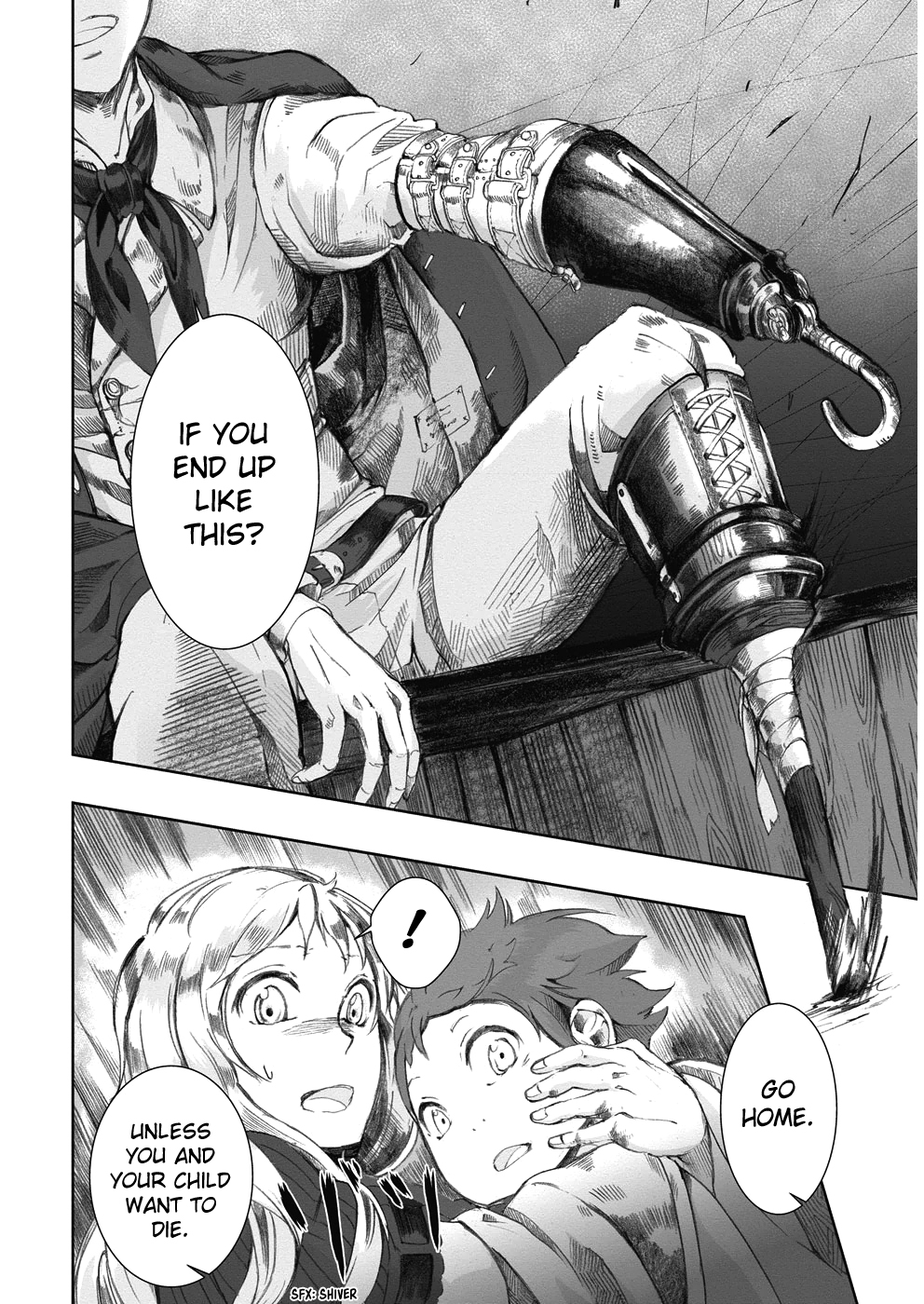bubble: (131, 301, 321, 649), (93, 1065, 252, 1289), (720, 1002, 837, 1217), (356, 876, 461, 991)
